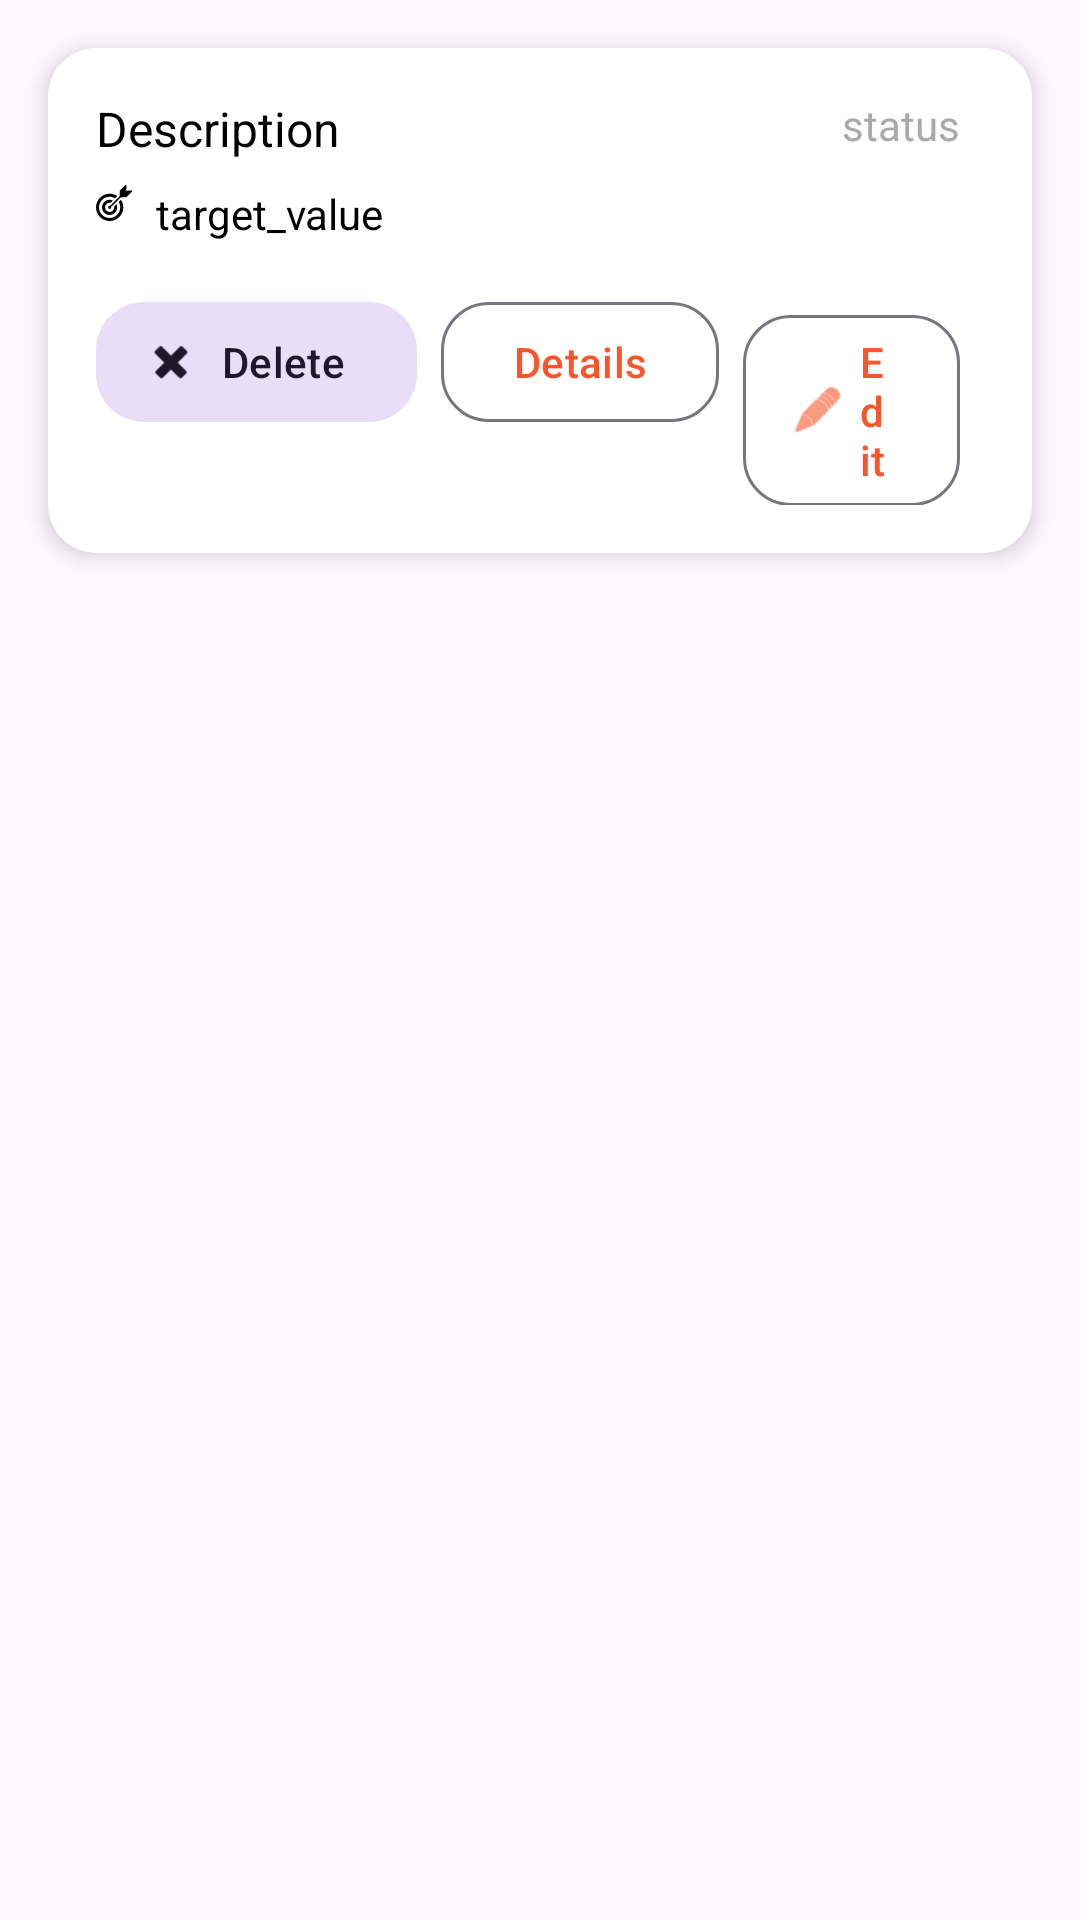

Where to tap for icons on this 1080*1920 app screen, as (x,y):
target and arrow: (114,203)
